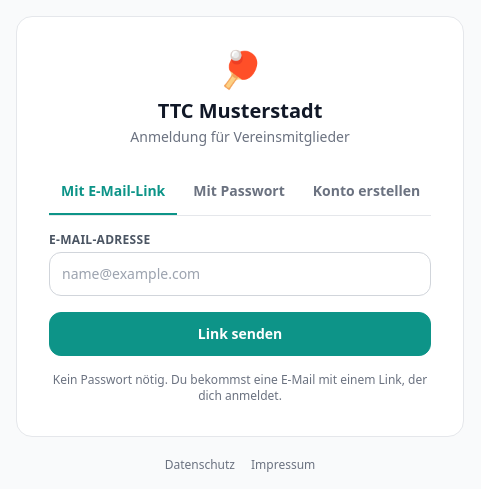
it: LoginPage › bestätigt den Versand statt still zu bleiben
In the field labelled "E-Mail-Adresse": [240, 274] box x1=49 y1=252 x2=431 y2=296, type "anna@example.com"
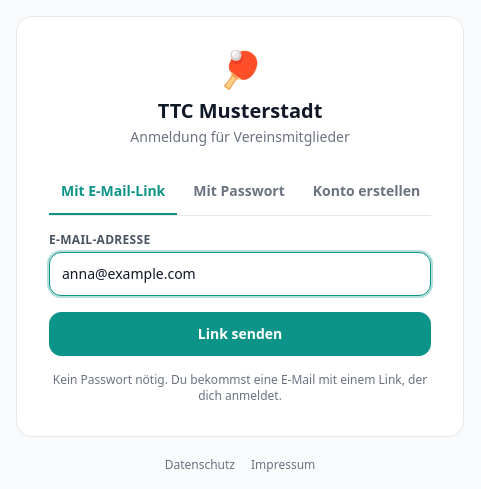
Click the button "Link senden": [240, 334] box x1=49 y1=312 x2=431 y2=356
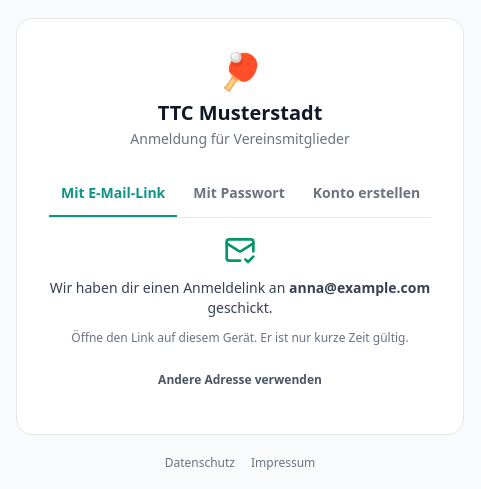
Check: the text "Anmeldelink" is shown, box x1=50 y1=278 x2=289 y2=296
Check: the text "anna@example.com" is shown, box x1=289 y1=278 x2=430 y2=296
